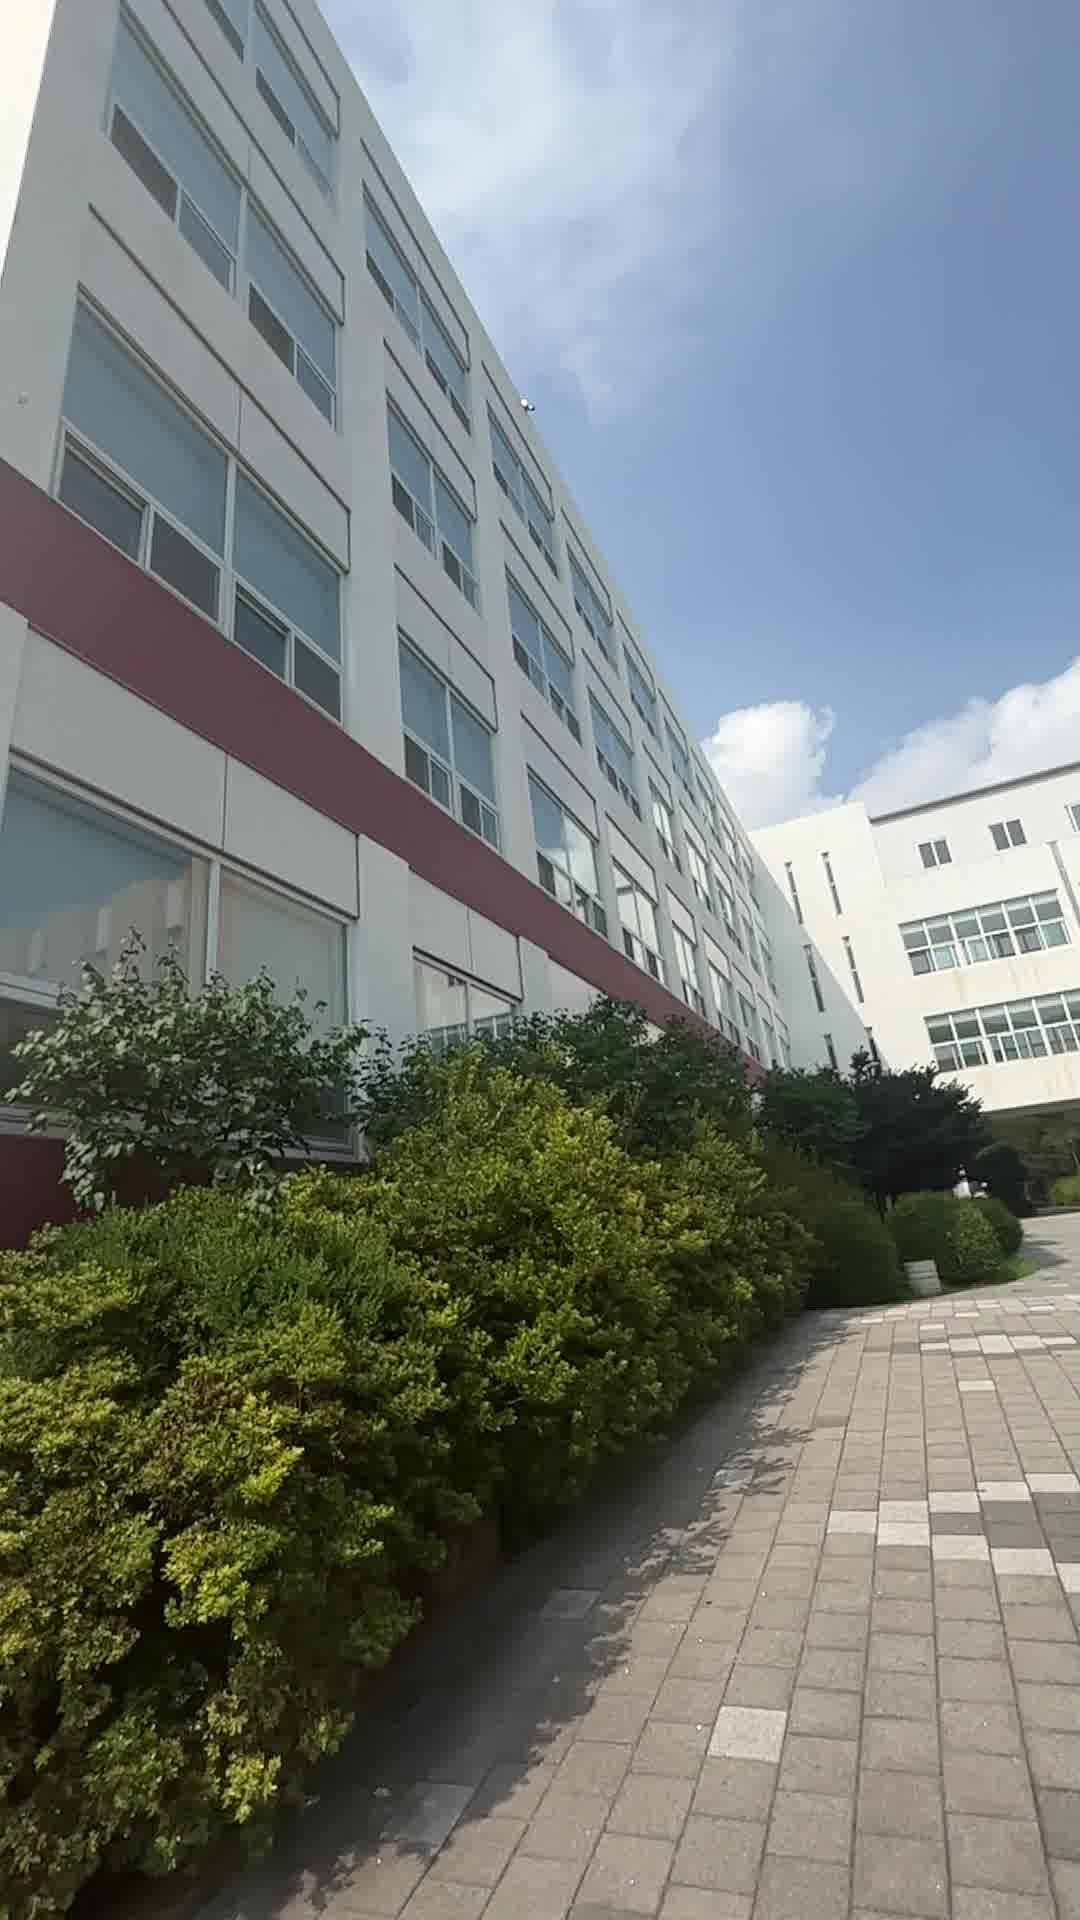building: (0, 0, 1080, 1055)
